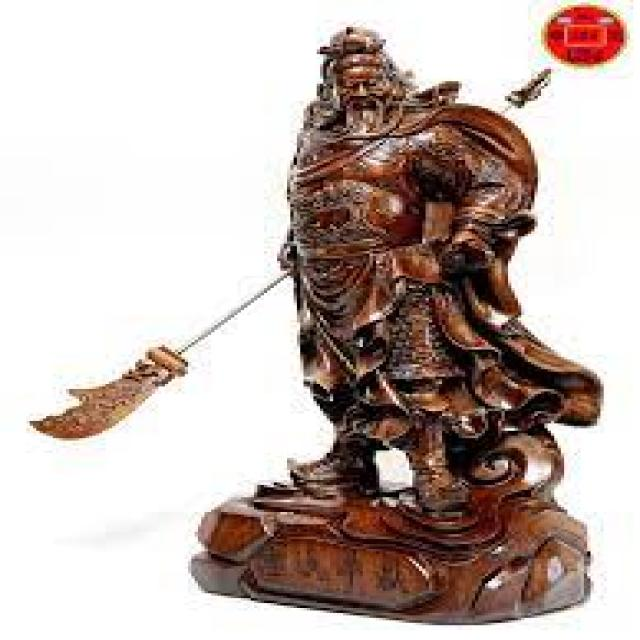Guan Yu: (272, 22, 558, 435)
